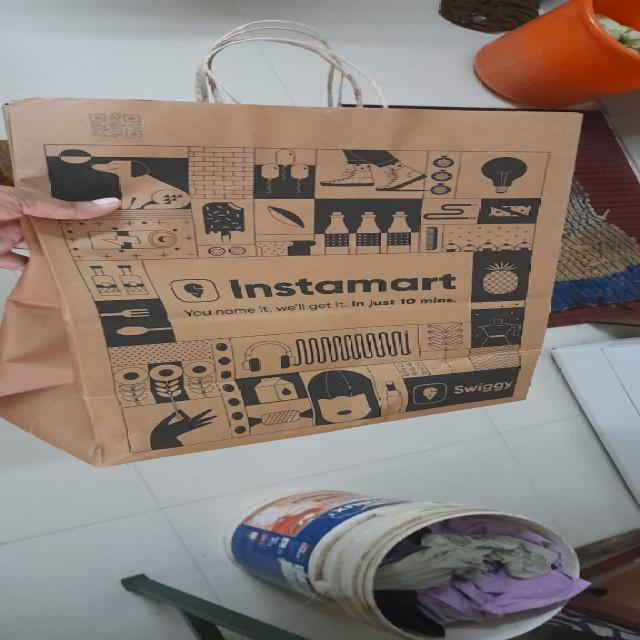Paper_Bag - Recyclable: (2, 96, 588, 468)
